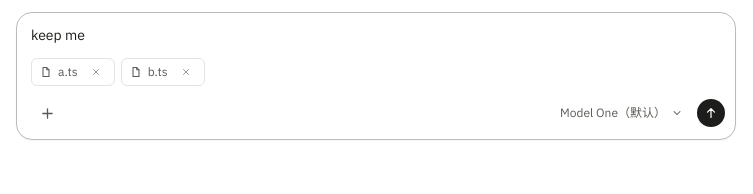
Test: Composer: + menu, tags and Needs Input · I-Q4, FR-INPUT-001 › keeps the text and every tag when create refuses a file, and shows why
Expected: the button with aria-label "Model Selector" is enabled, 552,97 -> 691,129
Click the button named "Send".
click(711, 113)  # box 697,99 -> 725,127
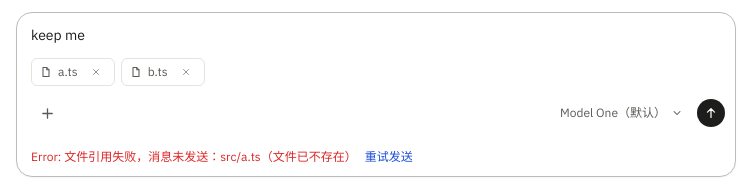
Expected: the number of elements with class "composer__tag" is 2, 31,58 -> 115,86; 121,58 -> 205,86
Expected: the message "Error: 文件引用失败，消息未发送：src/a.ts（文件已不存在） 重试发送" is shown, 31,147 -> 413,166
